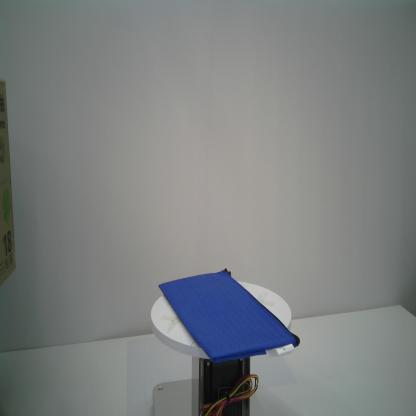Stationery: (158, 266, 301, 366)
